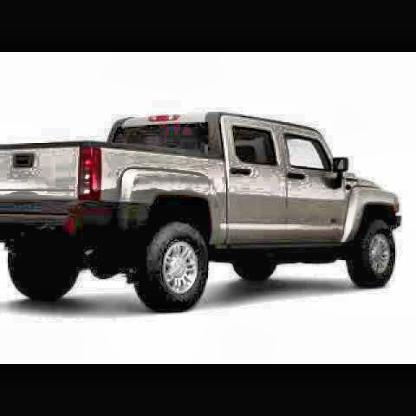HUMMER H3T Crew Cab 2010: (2, 114, 405, 316)
